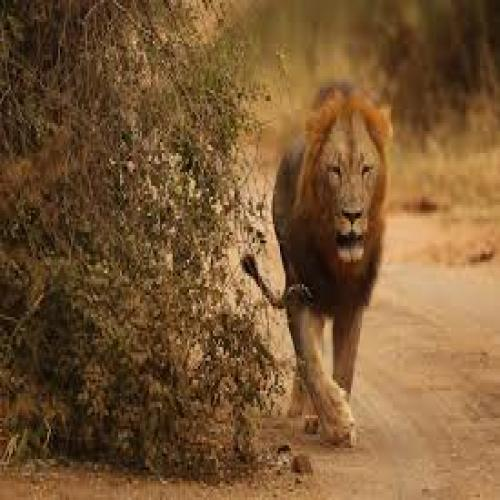lion-endangered: (242, 84, 391, 444)
